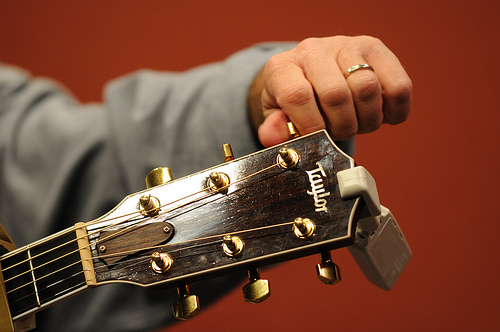guitar: (1, 127, 369, 332)
